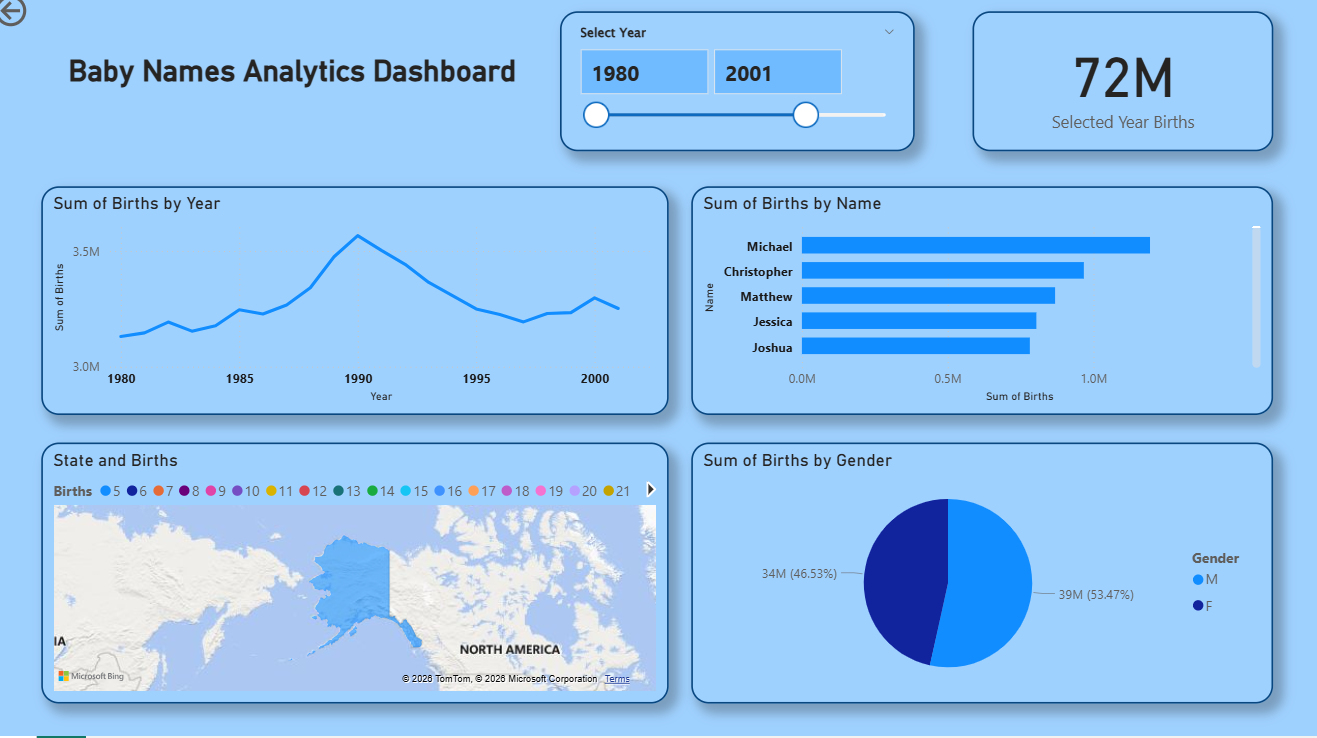

The dashboard page shown, as its layout file describes it:
{"tool":"powerbi","page":{"name":"Page 1","canvas":[1280,720],"ordinal":0},"visuals":[{"type":"lineChart","fields":{"Category":["names.Year"],"Y":["Sum(names.Births)"]},"box":[49.9,189.6,605.8,220.9],"z":0},{"type":"clusteredBarChart","fields":{"Category":["names.Name"],"Y":["Sum(names.Births)"]},"box":[677.1,189.6,561.6,220.9],"z":2000},{"type":"pieChart","fields":{"Category":["names.Gender"],"Y":["Sum(names.Births)"]},"box":[677.1,436.2,561.6,252.3],"z":3000},{"type":"filledMap","fields":{"Category":["names.State"],"Series":["names.Births"]},"box":[49.9,436.2,605.8,252.3],"z":4000},{"type":"actionButton","box":[0,0,100,40],"z":4002},{"type":"textbox","box":[49.9,55.6,484.6,65.6],"z":4003},{"type":"card","title":"Selected Year Births","fields":{"Values":["names.Selected Year Births"]},"box":[947.9,20,290.8,135.4],"z":4004},{"type":"slicer","title":"selected year","fields":{"Values":["names.Year"]},"box":[550.2,20,342.1,135.4],"z":4005}]}

Visuals, with their boxes in screenshot pixels (x1, y1, x2, y2), scaled from the page's 1280x720 canvas onto the 1317x738 screenshot:
lineChart - names.Year x Sum(names.Births): BBox(51, 194, 675, 421)
clusteredBarChart - names.Name x Sum(names.Births): BBox(697, 194, 1275, 421)
pieChart - names.Gender x Sum(names.Births): BBox(697, 447, 1275, 706)
filledMap - names.State x names.Births: BBox(51, 447, 675, 706)
actionButton: BBox(0, 0, 103, 41)
textbox: BBox(51, 57, 550, 124)
"Selected Year Births" card: BBox(975, 20, 1275, 159)
"selected year" slicer: BBox(566, 20, 918, 159)
